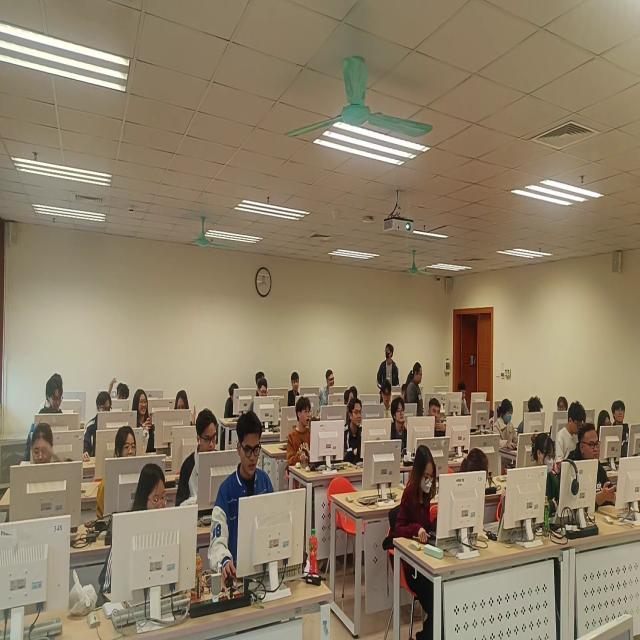raise_hand: (170, 389, 203, 435), (107, 382, 133, 413)
raise_head: (563, 427, 640, 529), (181, 417, 231, 502), (288, 398, 324, 480), (339, 401, 372, 463), (386, 394, 414, 458), (134, 387, 158, 450), (427, 400, 448, 450), (552, 391, 573, 433), (376, 381, 397, 419), (321, 367, 337, 410), (288, 373, 305, 408), (615, 400, 631, 434)
stand: (375, 336, 402, 412), (404, 361, 425, 446)
using_computer: (228, 423, 290, 582), (114, 470, 187, 595), (388, 451, 450, 566), (23, 429, 79, 527), (102, 425, 148, 516), (526, 432, 561, 522), (32, 381, 74, 452), (85, 393, 118, 463), (492, 400, 525, 458), (244, 382, 282, 432), (450, 380, 483, 423), (520, 395, 546, 438), (224, 385, 248, 424), (563, 402, 584, 443)
